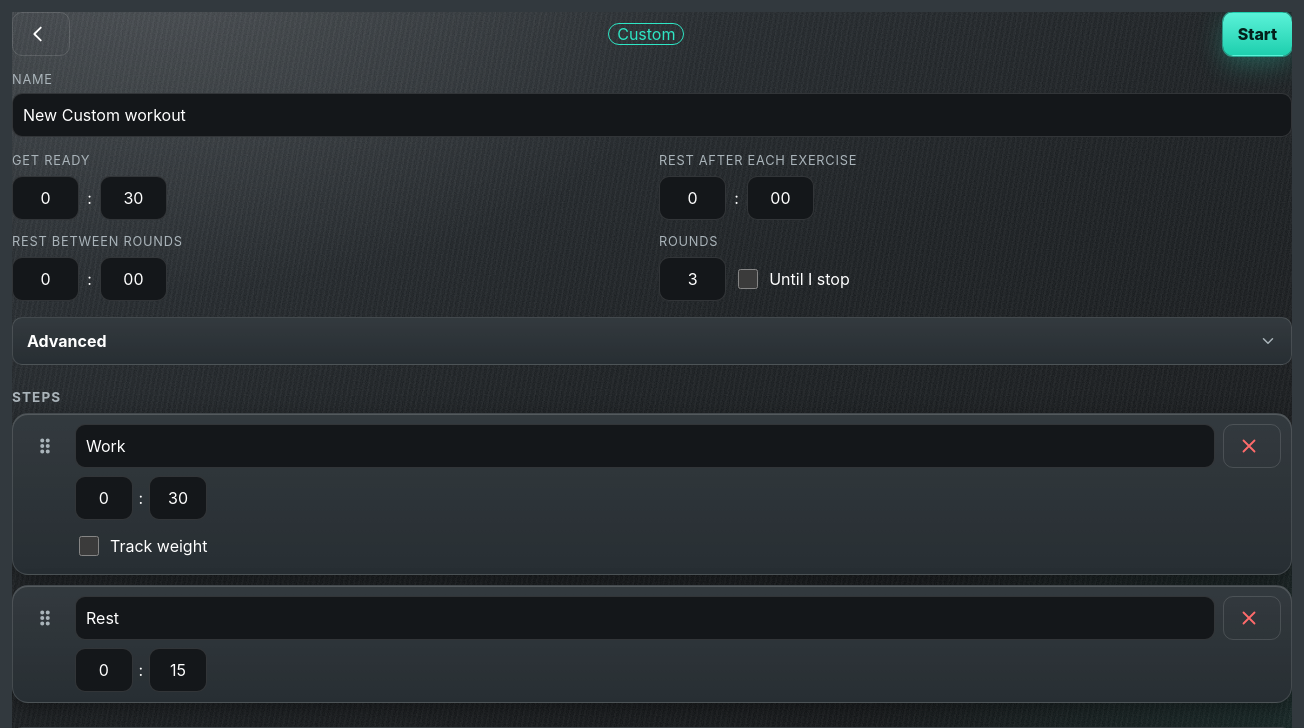
Scenario: Editor validation and leaving › lists problems and disables Start until they are fixed
Replace the text in the number field named "Step 1 time seconds" with "0" at (178, 498), box x1=149 y1=476 x2=207 y2=520
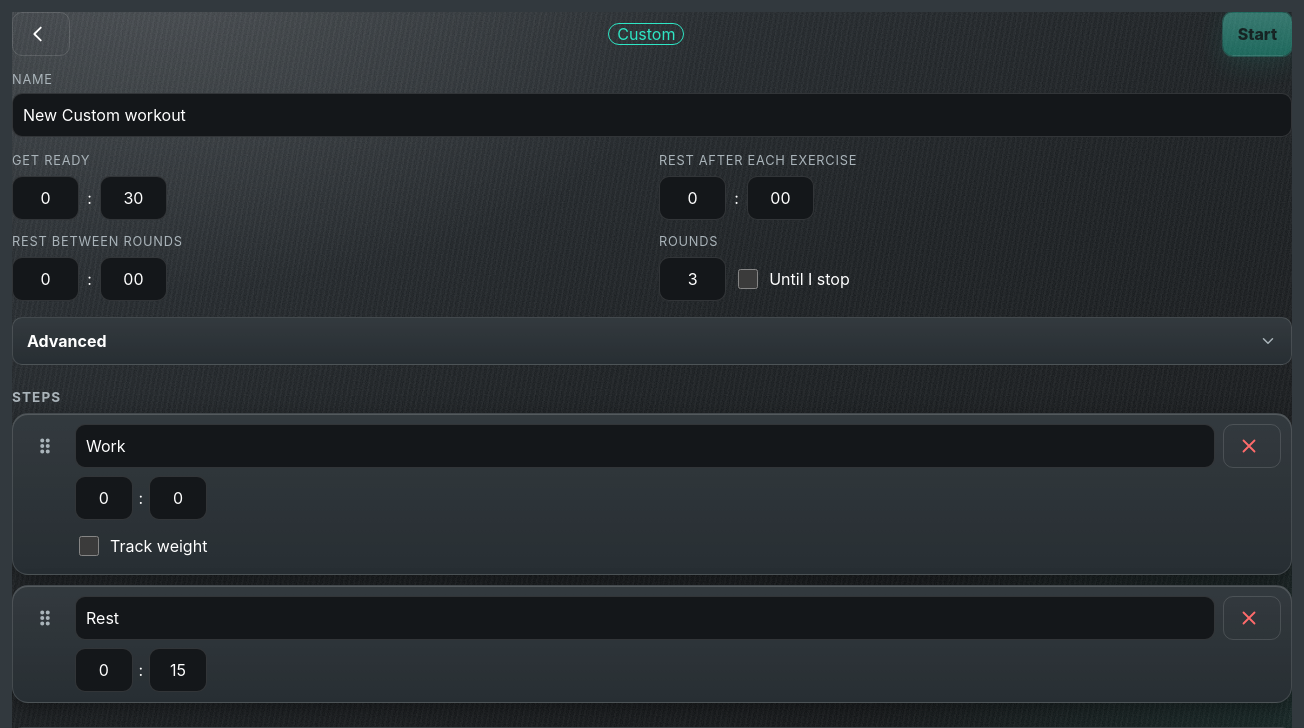
Check: the button "Start" is disabled, box x1=1223 y1=12 x2=1292 y2=56
Replace the text in the number field named "Step 1 time seconds" with "30" at (178, 498), box x1=149 y1=476 x2=207 y2=520
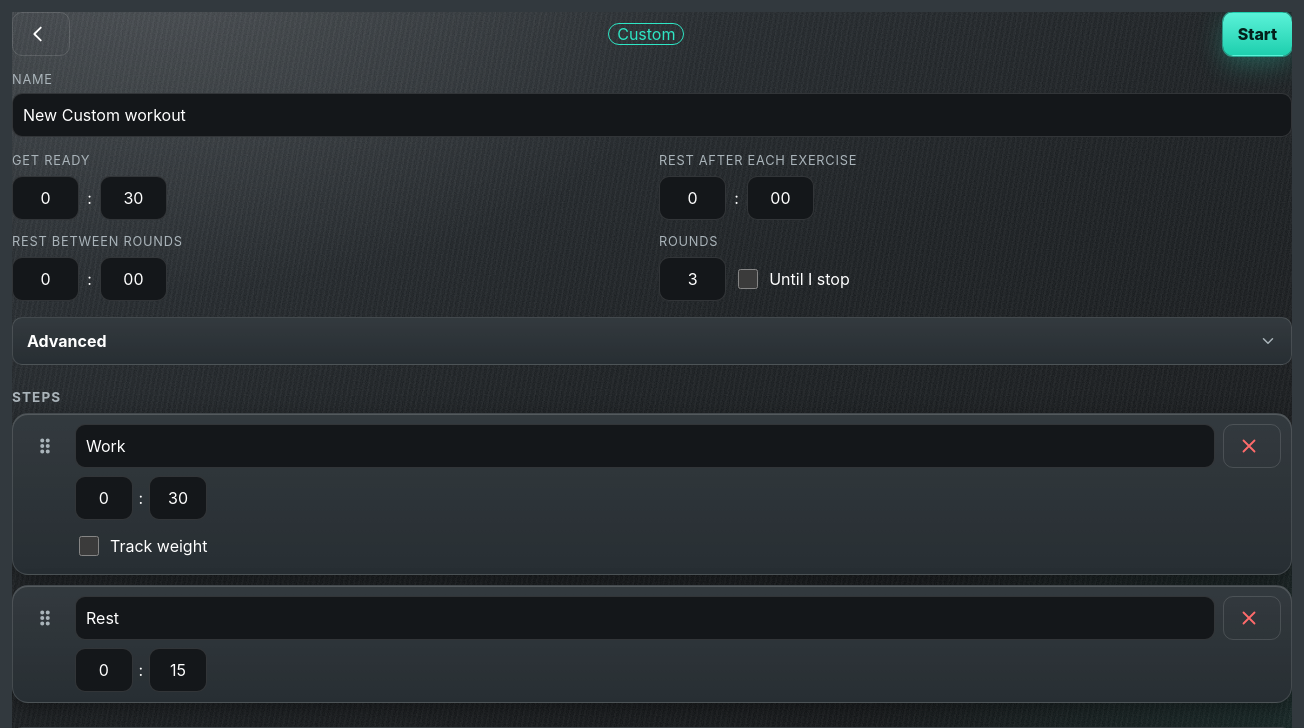
Check: the button "Start" is enabled, box x1=1223 y1=12 x2=1292 y2=56
